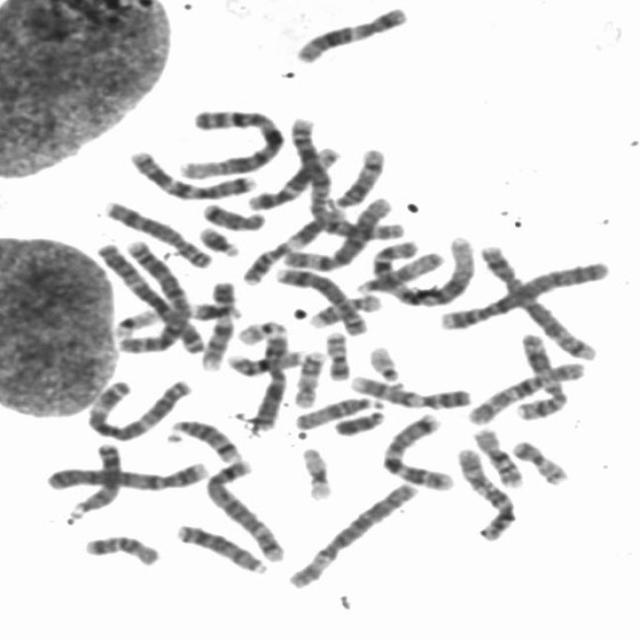A1: (172, 104, 288, 180), (366, 231, 478, 308)
A2: (284, 110, 405, 245), (118, 246, 186, 354)
A3: (90, 238, 206, 354), (79, 372, 194, 442)
B4: (434, 255, 614, 333), (41, 457, 212, 492)
B5: (472, 240, 600, 362), (201, 456, 289, 564)
C10: (461, 357, 588, 428), (450, 443, 520, 542)
C11: (236, 203, 349, 286), (513, 328, 570, 422)
C12: (289, 1, 411, 65), (241, 140, 344, 213)
C6: (282, 478, 421, 590), (276, 193, 394, 271)
C7: (124, 145, 260, 201), (376, 408, 459, 492)
C8: (99, 196, 214, 269), (268, 262, 369, 337)
C9: (344, 370, 474, 410), (194, 276, 238, 372)
D13: (170, 518, 270, 575), (62, 437, 125, 524)
D14: (164, 414, 244, 463), (329, 144, 388, 209)
D15: (351, 247, 446, 295), (289, 390, 385, 431)
E16: (468, 424, 529, 489), (222, 345, 308, 377)
E17: (305, 290, 384, 329), (290, 346, 328, 409)
E18: (80, 530, 164, 567), (198, 198, 268, 232)
F19: (296, 442, 336, 502), (115, 309, 157, 343)
F20: (506, 436, 572, 486), (320, 326, 353, 382)
G21: (193, 222, 243, 258), (186, 298, 244, 321)
G22: (362, 340, 405, 384), (233, 315, 290, 347)
X: (246, 326, 292, 432)
Y: (329, 406, 388, 437)
